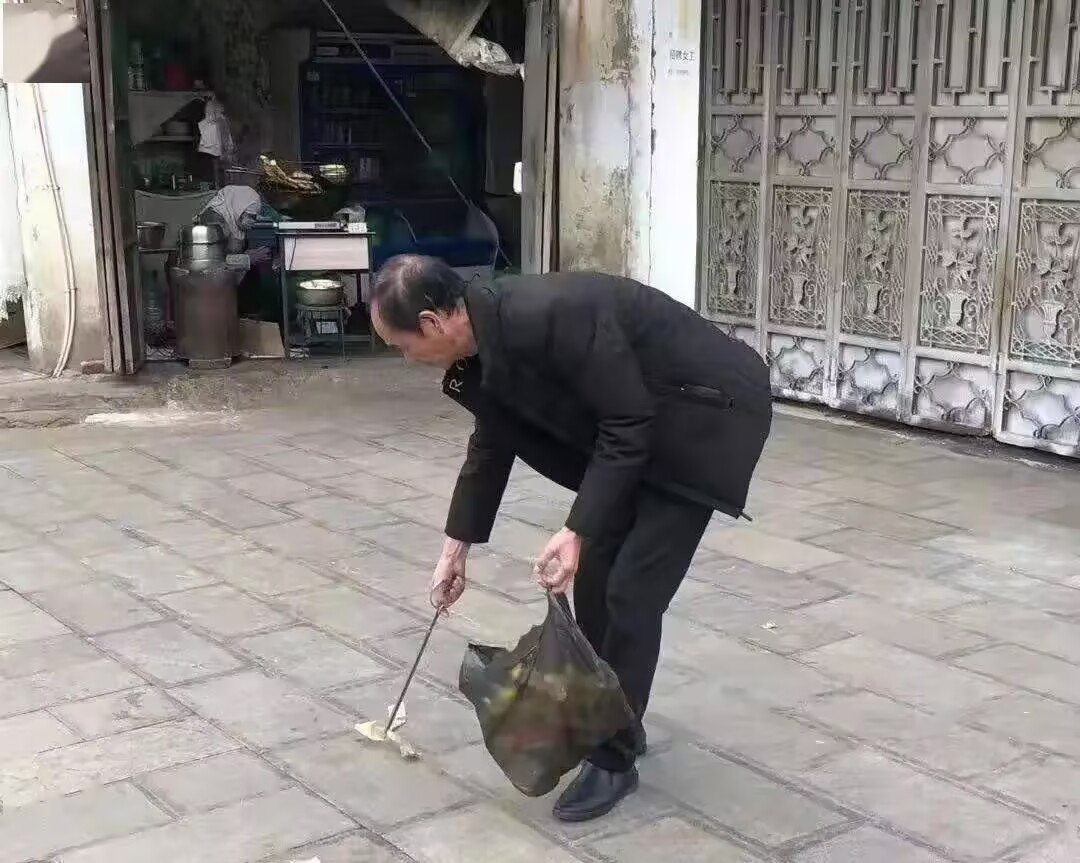bending: (350, 244, 807, 847)
